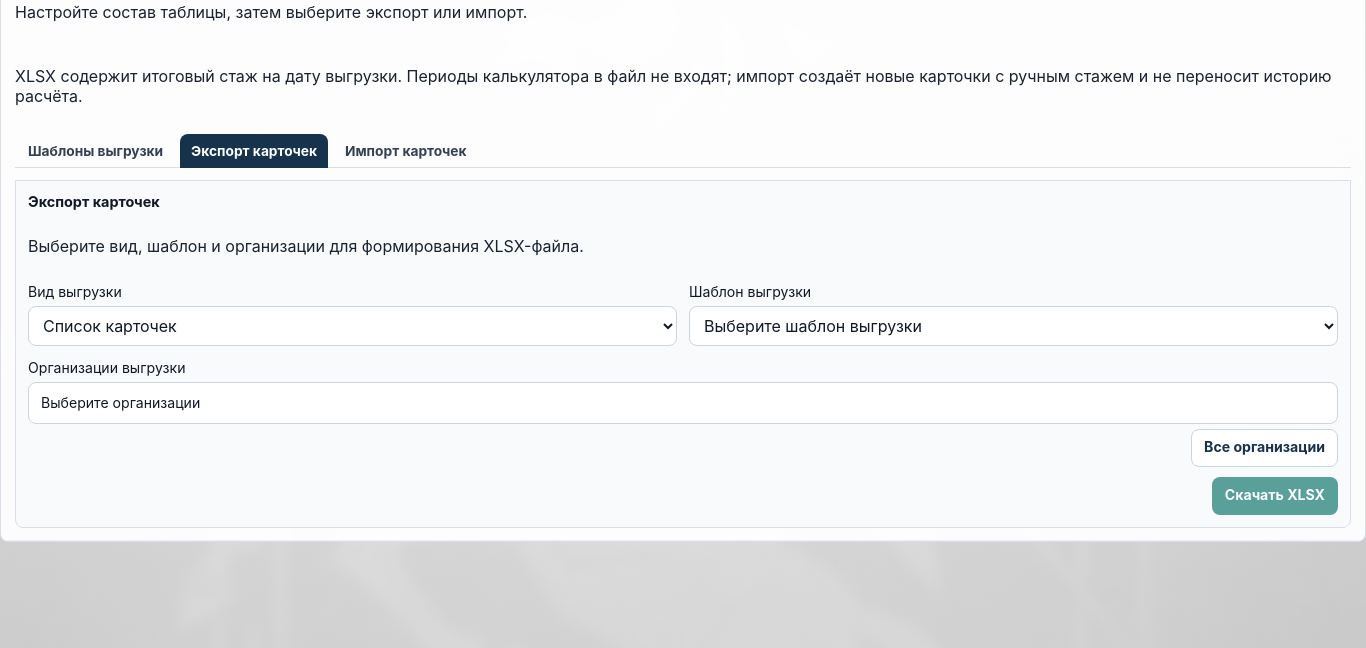
Test: edits a persisted template and archives it only after explicit confirmation
Click the tab "Шаблоны выгрузки" at (96, 151), box [17, 134, 174, 168]
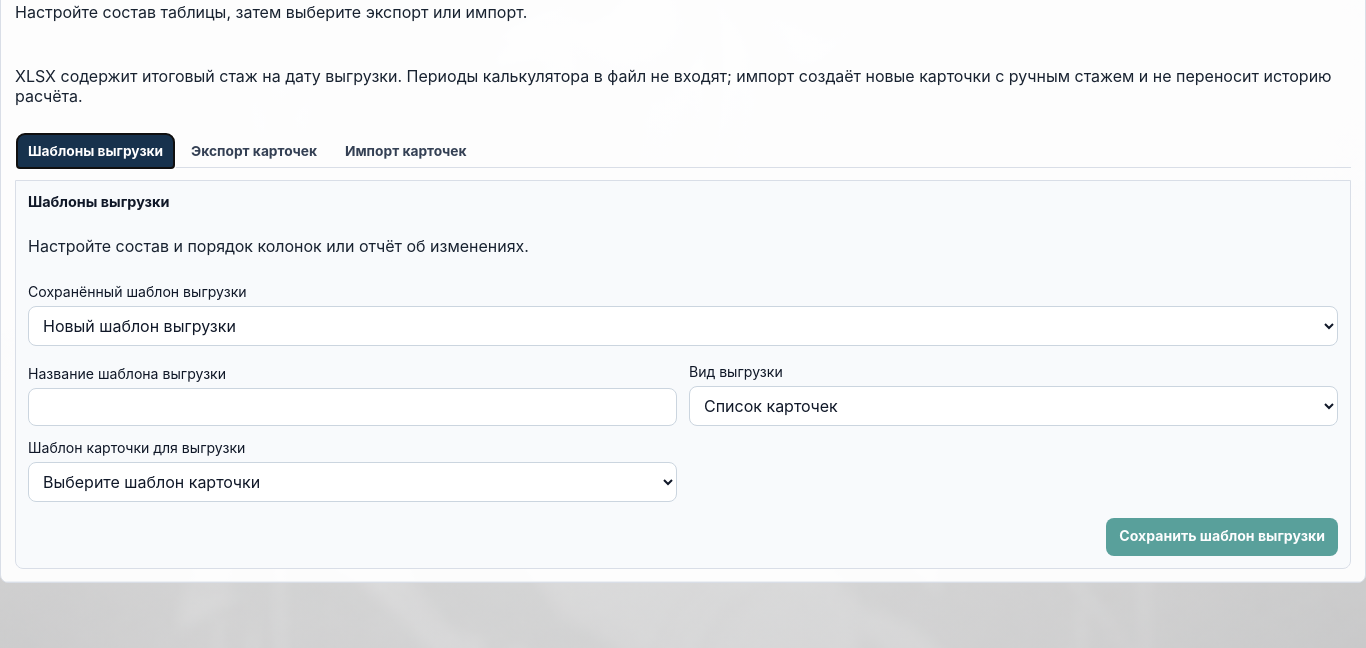
Select "Список отдела" in the dropdown labelled "Сохранённый шаблон выгрузки" at (683, 326), box [28, 306, 1338, 346]
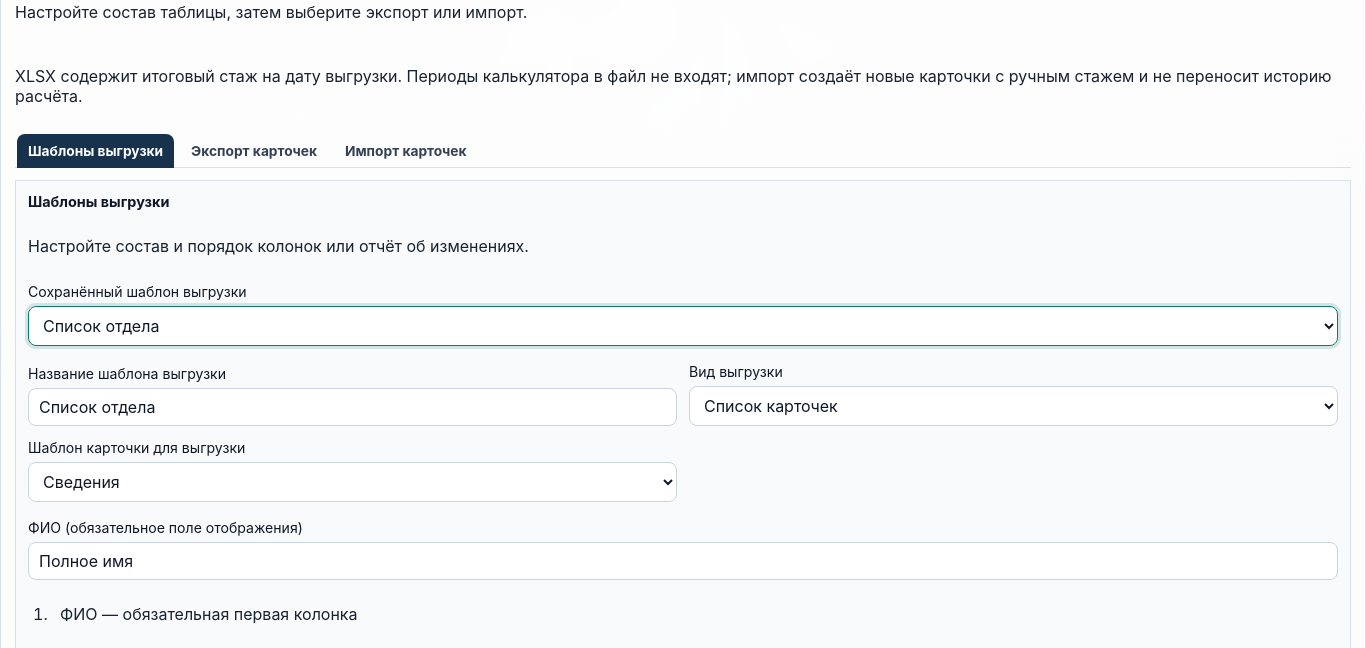
Replace the text in the field labelled "Название шаблона выгрузки" with "Обновлённый список" at (352, 407), box [28, 388, 677, 426]
(page scrolled)
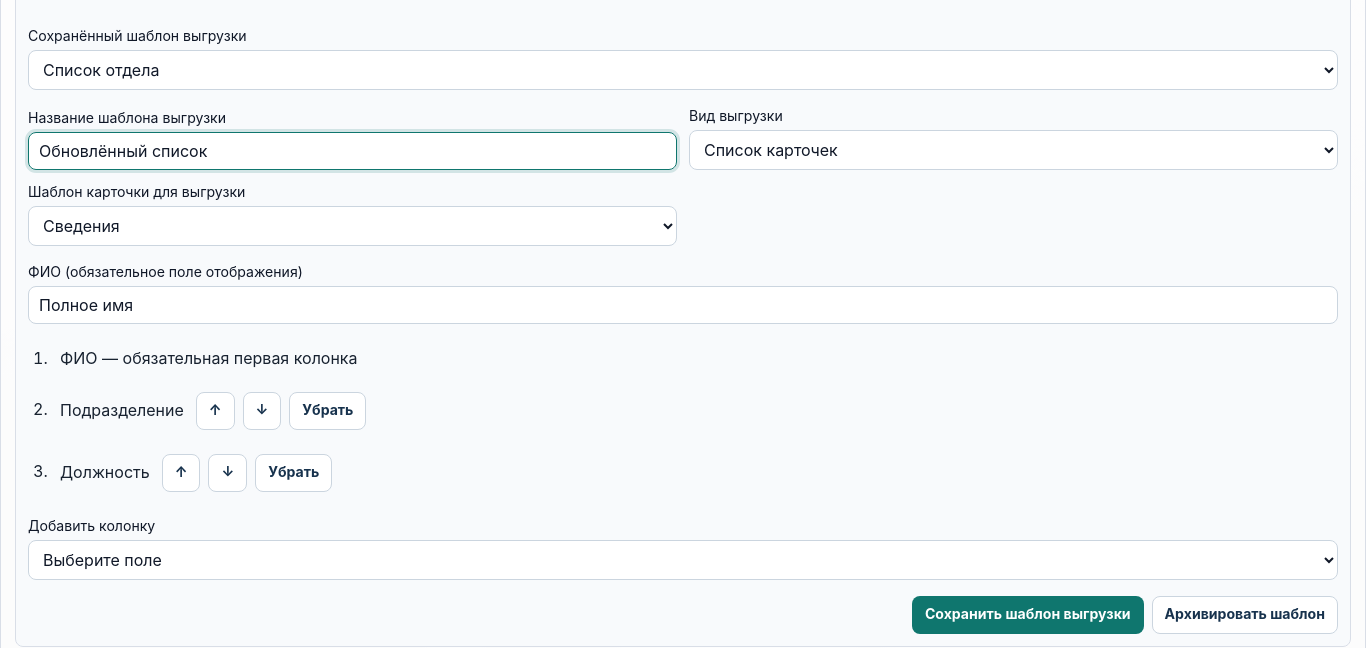
Click the button "Сохранить шаблон выгрузки" at (1028, 615), box [912, 596, 1144, 634]
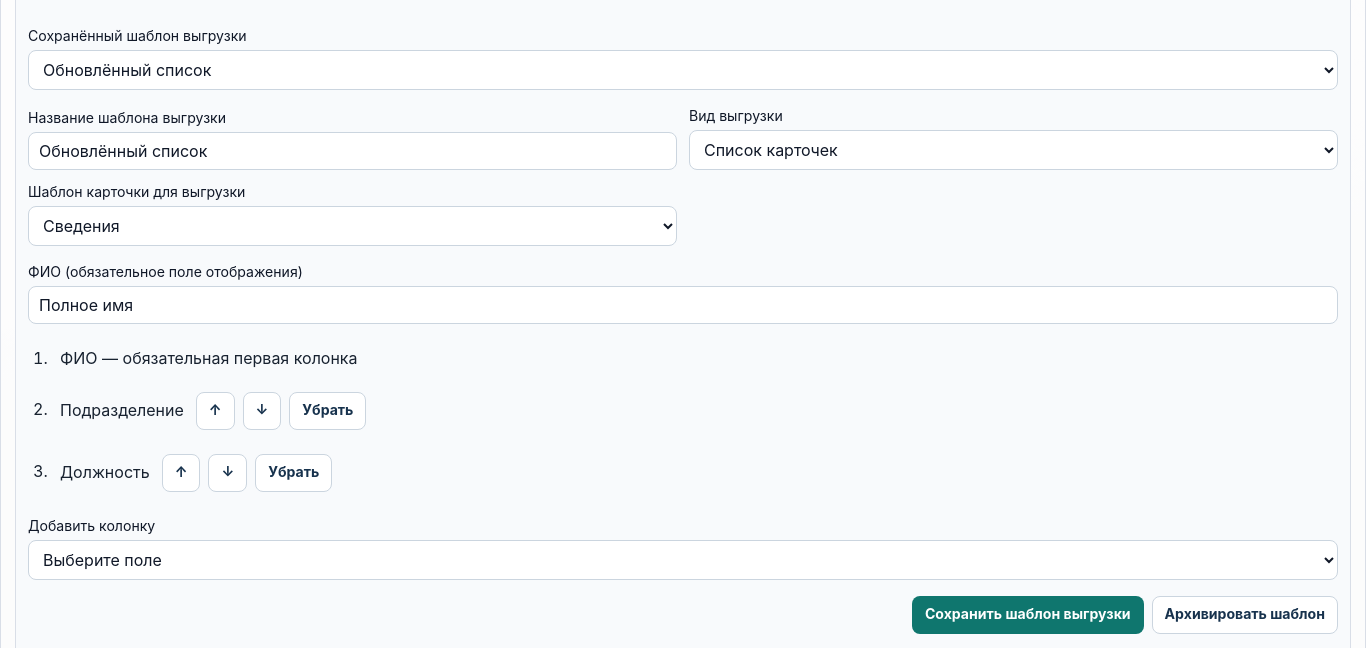
Click the button "Архивировать шаблон" at (1245, 615), box [1152, 596, 1338, 634]
(page scrolled)
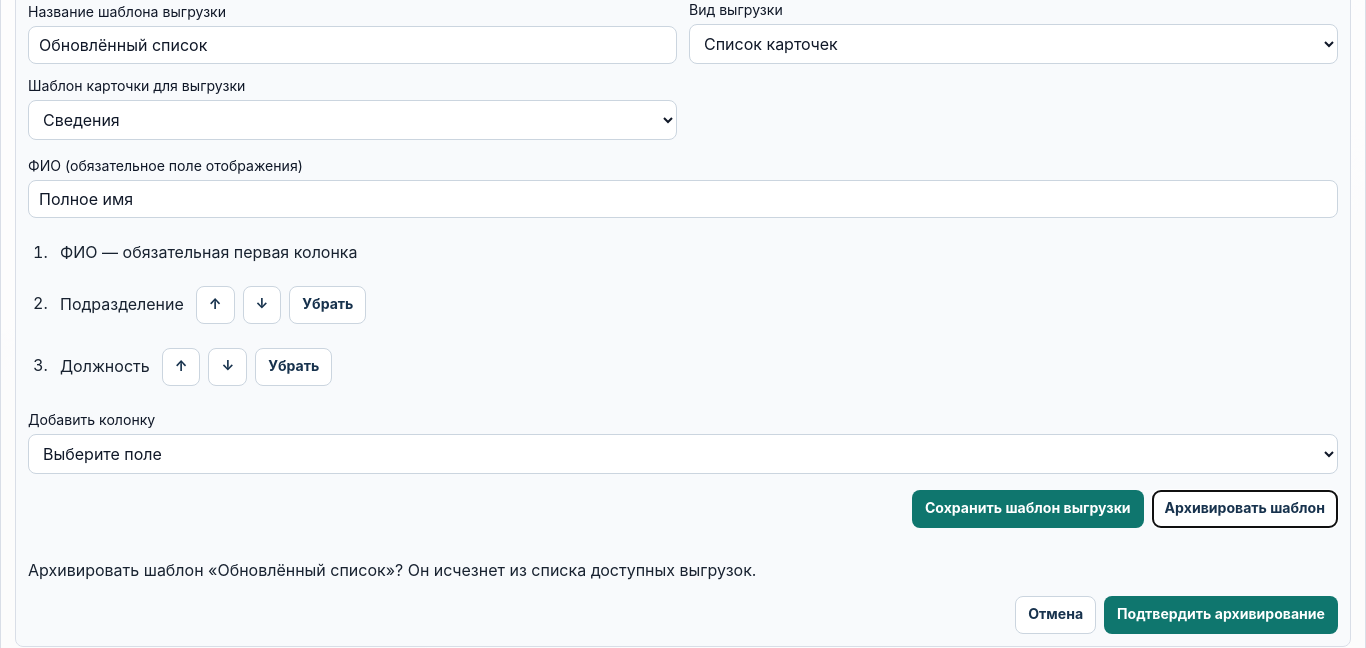
Click the button "Подтвердить архивирование" at (1221, 615), box [1104, 596, 1338, 634]
(page scrolled)
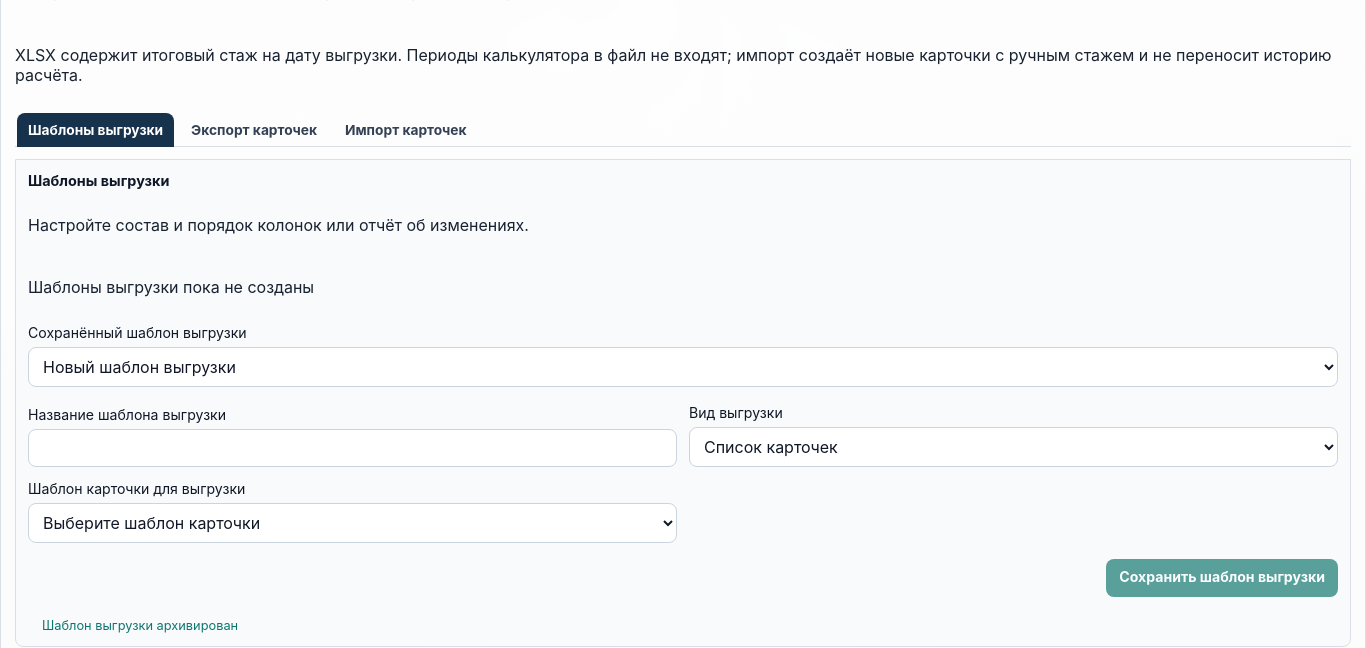
Expected: the message reads "Шаблон выгрузки архивирован", [42, 618, 238, 633]
